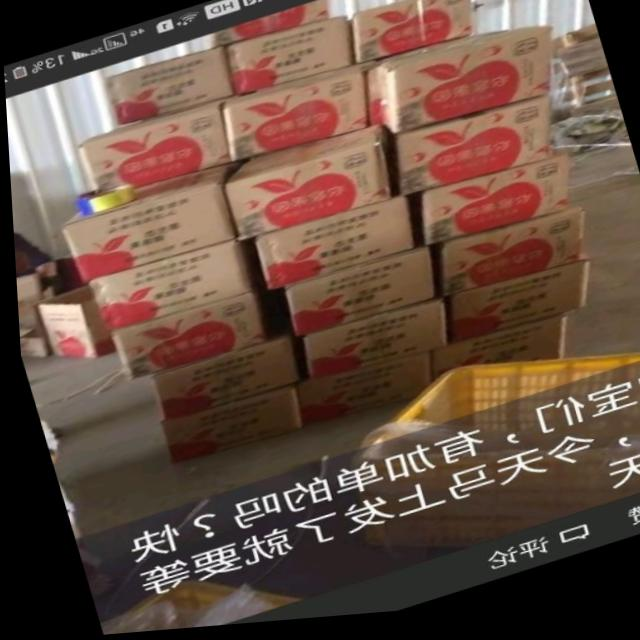box: (56, 164, 234, 283), (220, 131, 390, 245), (373, 36, 552, 138), (390, 102, 549, 203), (249, 199, 412, 293), (85, 240, 248, 332), (221, 66, 372, 165), (79, 101, 234, 190), (105, 295, 259, 381), (435, 213, 581, 303), (418, 164, 565, 252), (284, 252, 427, 340), (146, 337, 295, 421), (298, 304, 444, 383), (440, 269, 586, 348), (154, 388, 296, 466), (224, 21, 353, 100), (107, 48, 232, 126), (425, 320, 564, 390), (349, 0, 473, 70), (305, 357, 426, 425), (209, 1, 328, 51)
